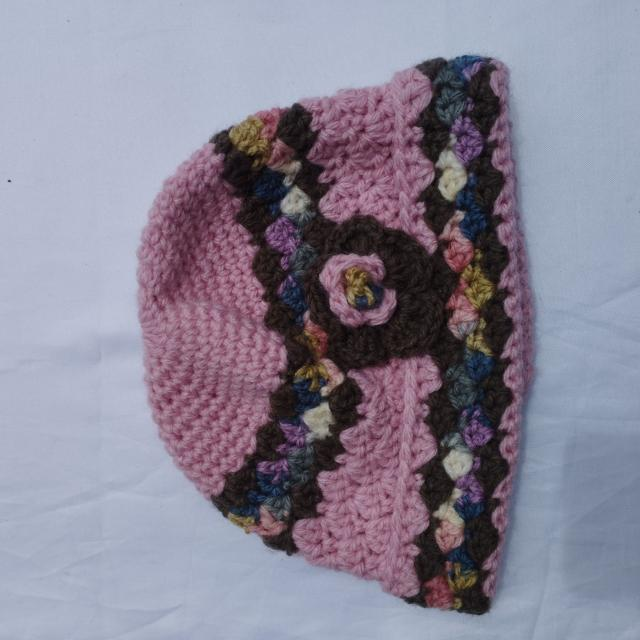Gorro: (135, 54, 535, 616)
